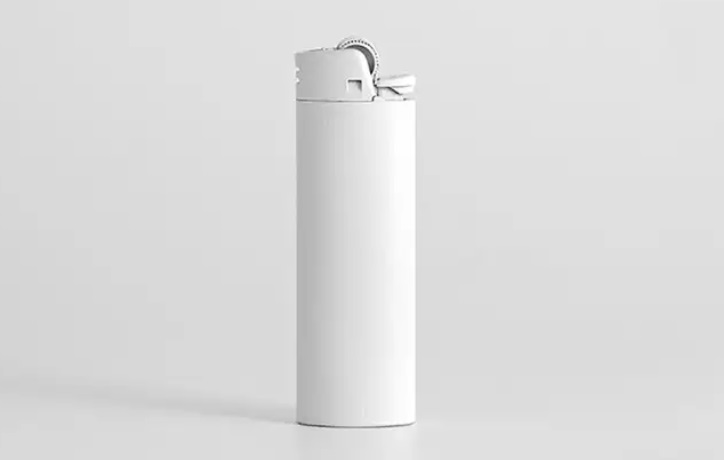White: (270, 31, 442, 433)
